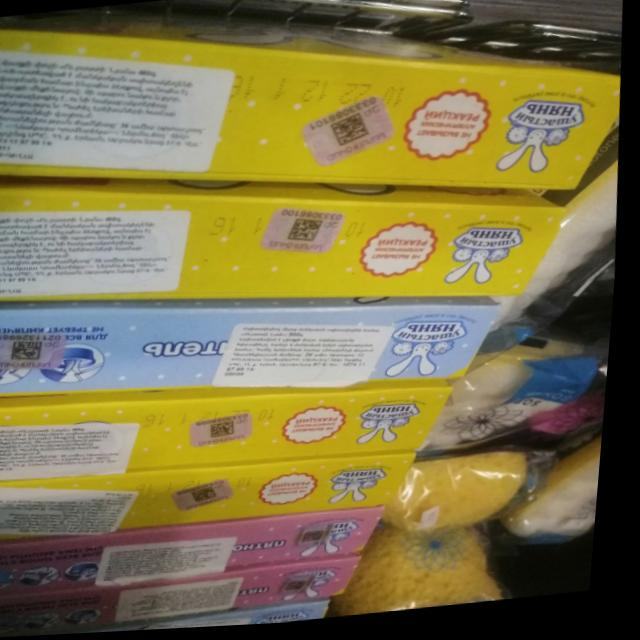datamatrix: (328, 115, 375, 153), (289, 219, 328, 249), (15, 338, 51, 365), (216, 423, 244, 442), (199, 488, 227, 506)
